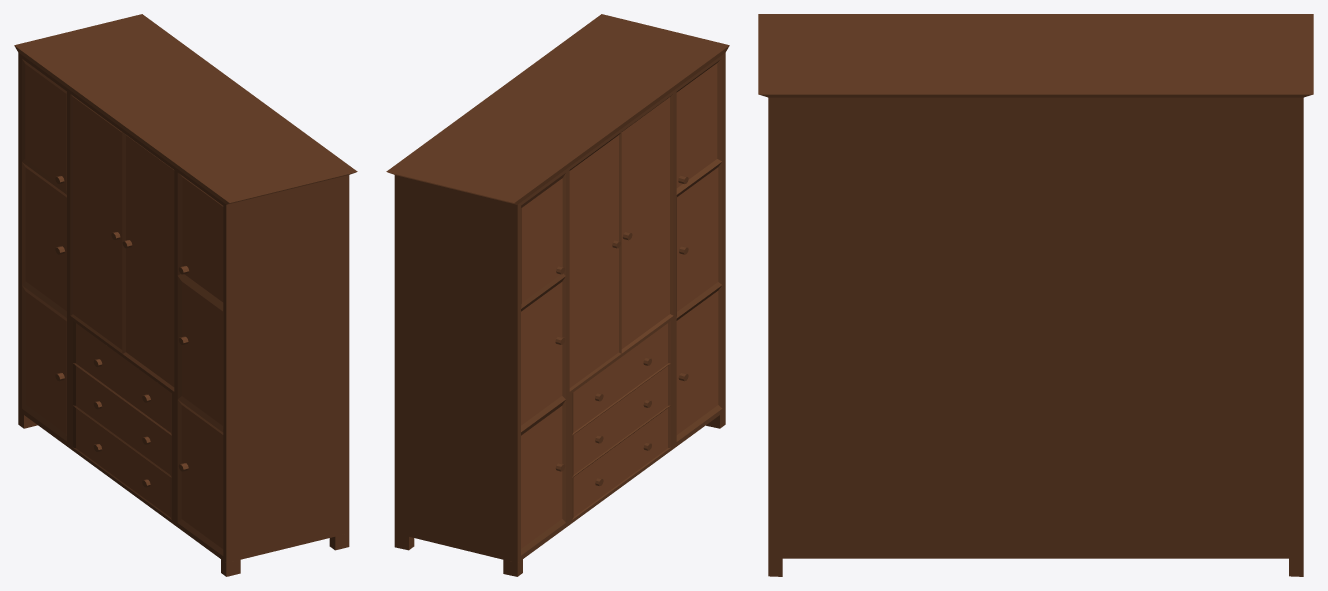
The model's file is closetwood01.gltf.
3 renders of one model, left to right at view 1: azimuth 30°, elevation 25°; view 2: azimuth 150°, elevation 25°; view 3: azimuth 270°, elevation 25°, orthographic. The views are drawn at different scales.
Visible parts, largest first — view 1: Cube; view 2: Cube; view 3: Cube.
Part boxes in pixels (x1,y1,x2,y2): Cube: (14, 14, 357, 576); Cube: (386, 14, 729, 576); Cube: (758, 14, 1313, 576).
Size of the model in its own units: 0.7256 by 2 by 2.07.
1 material, 1 textured.
